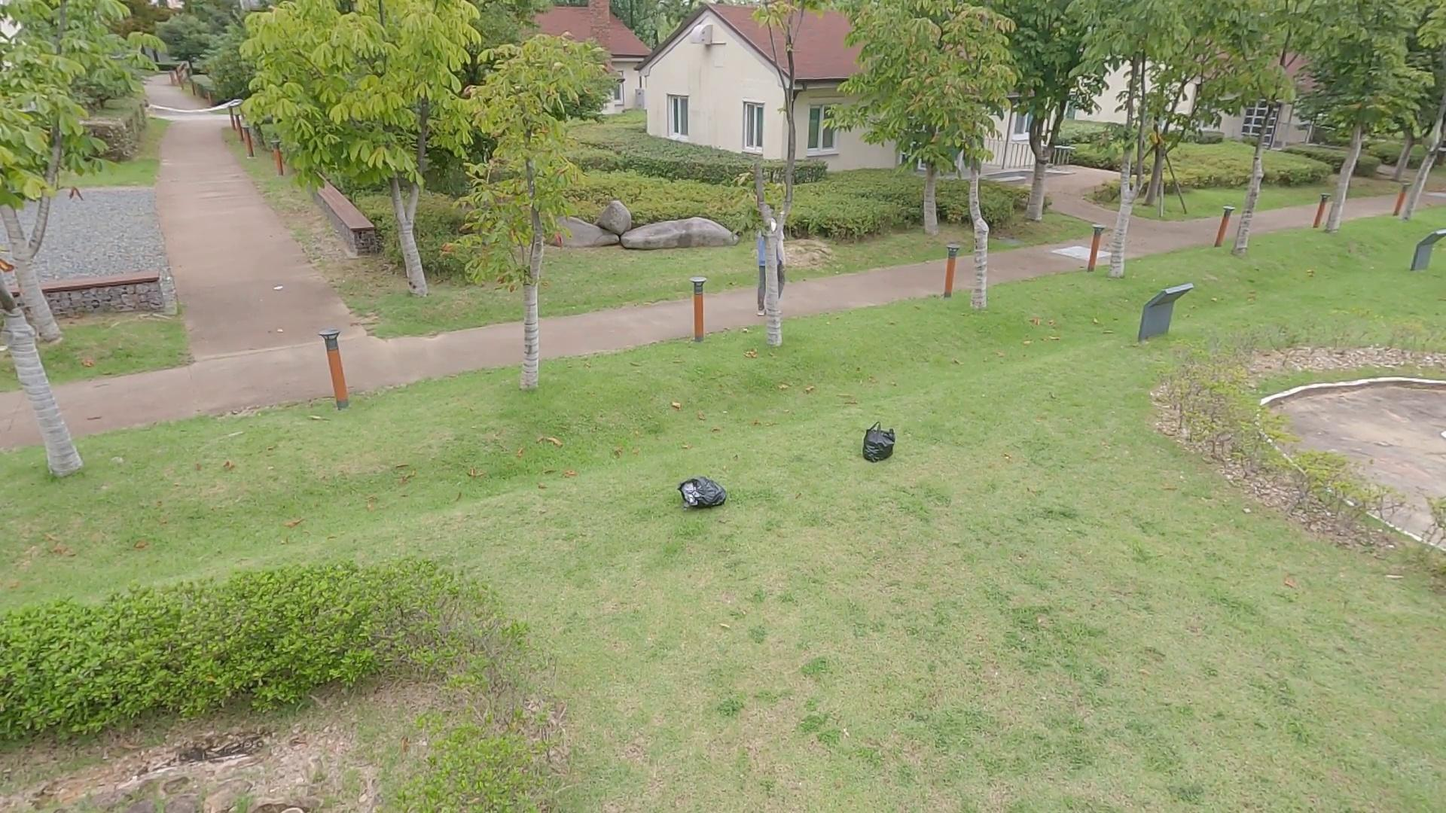person: (757, 210, 789, 320)
trash: (670, 467, 733, 516), (857, 422, 908, 466)
